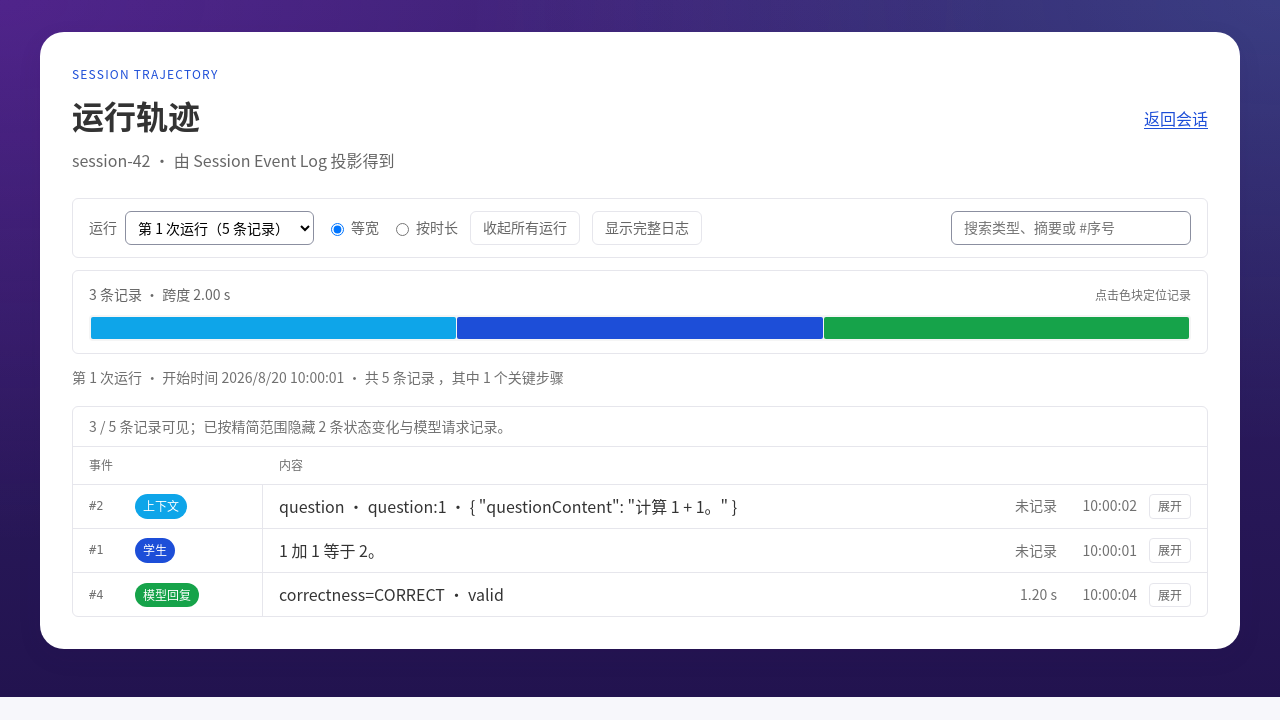
Test: SessionEventLogView › 切回精简范围后账本与色块同步收敛，不残留被隐藏记录的选中态
What coordinates should you click on to do the following:
click the button with class "toolbar-button" showing "显示完整日志"
I would click on:
 (647, 228)
Its box is [592,211,702,245].
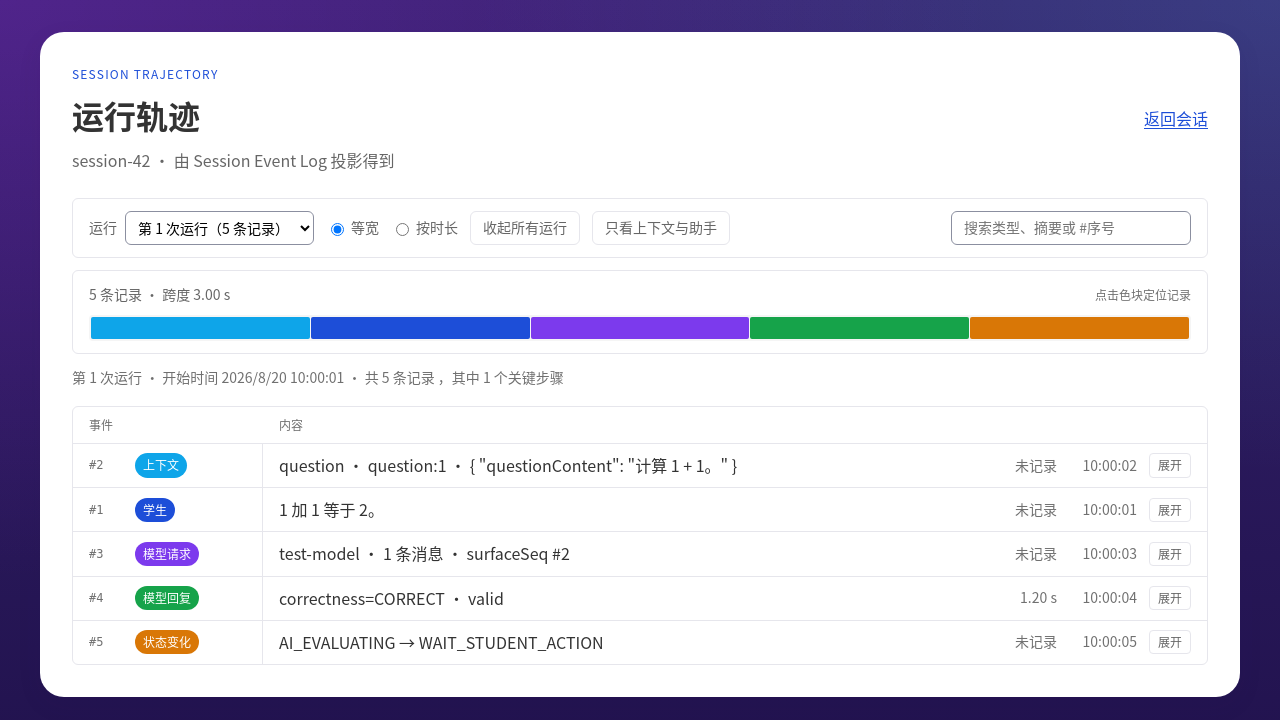
What coordinates should you click on to do the following:
click the element with class "record-row" that starts with "状态变化"
I would click on:
 (640, 642)
Its box is [73,620,1207,664].
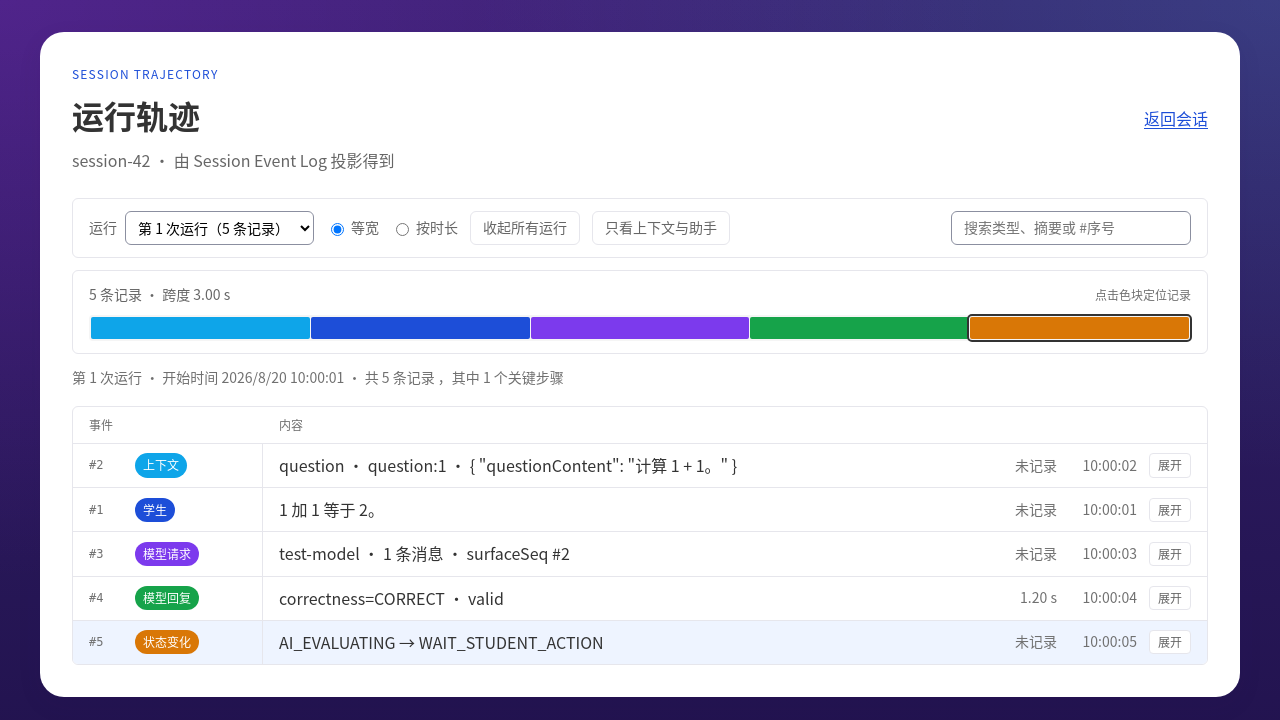
Result: the number of elements with class "selected" is 1 at [73,620,1207,664]
What coordinates should you click on to do the following:
click the button with class "toolbar-button" showing "只看上下文与助手"
I would click on:
 (661, 228)
Its box is [592,211,730,245].
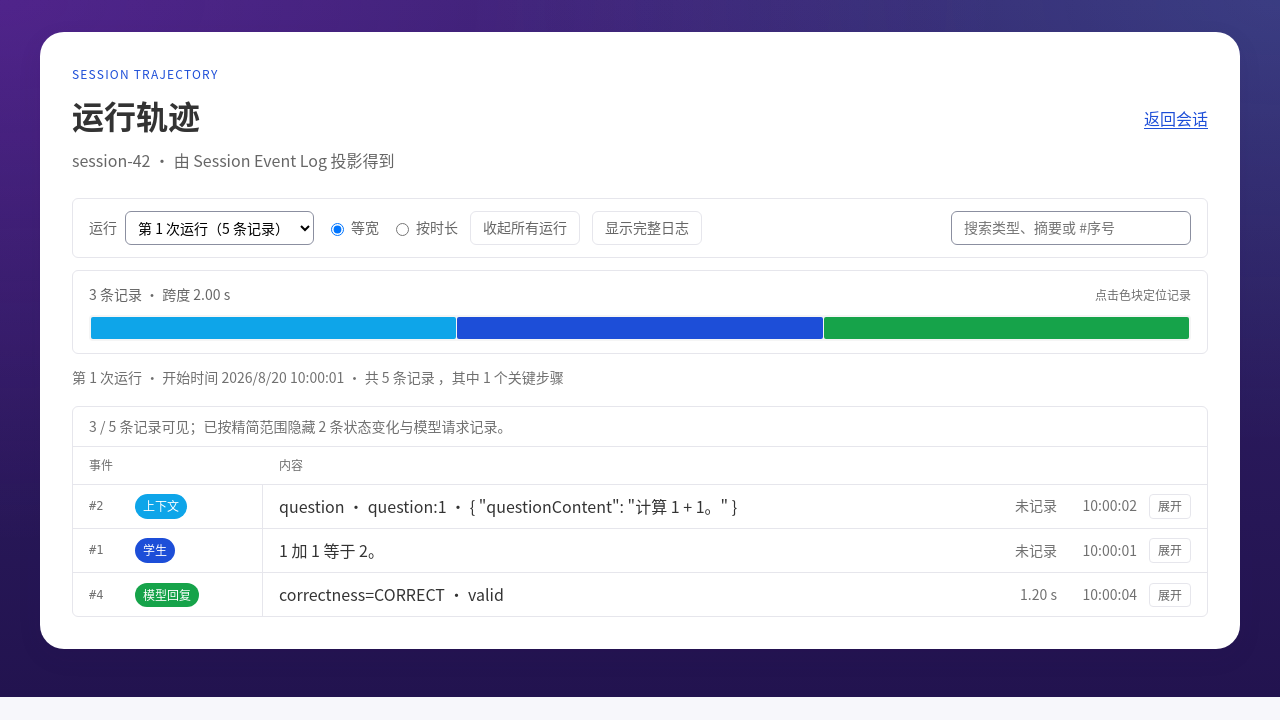
Result: the number of list items with class "timeline-block" is 3 at [91,317,456,339]; [457,317,823,339]; [824,317,1189,339]
Result: the number of elements with class "record-row" is 3 at [73,485,1207,528]; [73,528,1207,572]; [73,572,1207,616]
Result: no elements with class "selected" are shown
